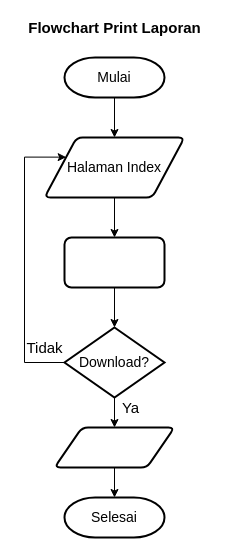
Some shapes in this 227 by 555 pixel diagram are drawn without their labels. The centre of each missing label's shape, as x and y in pixels:
Cetak: (114,262)
dokumen: (114,447)
